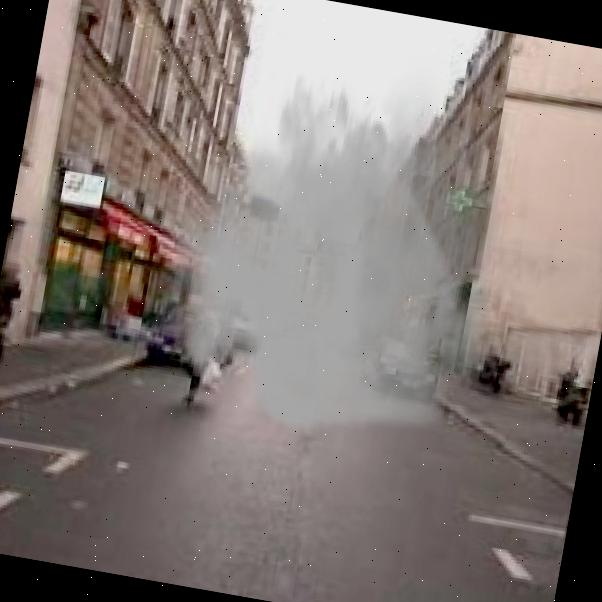smoke: (139, 18, 548, 470)
